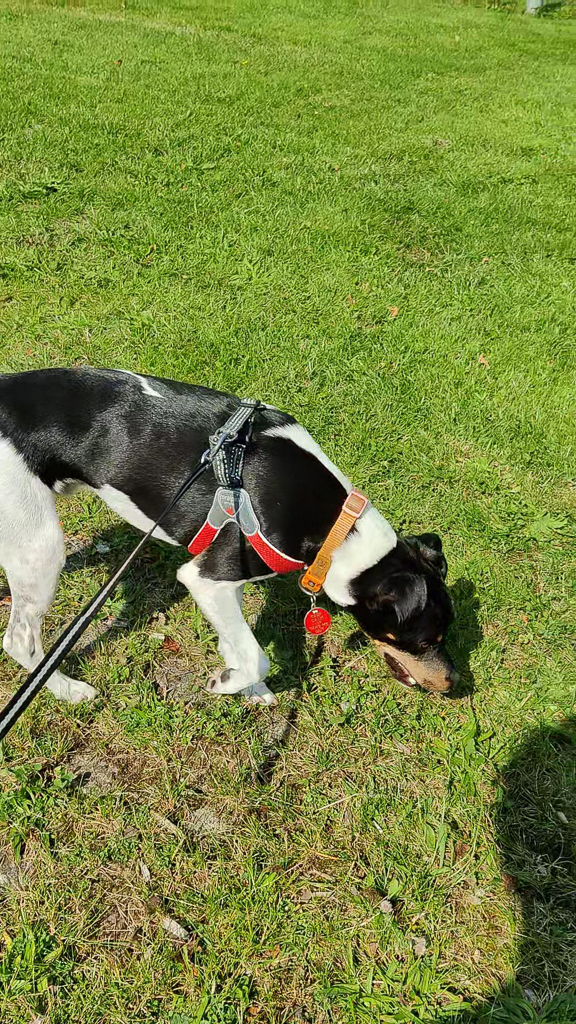Dog: (0, 340, 491, 738)
